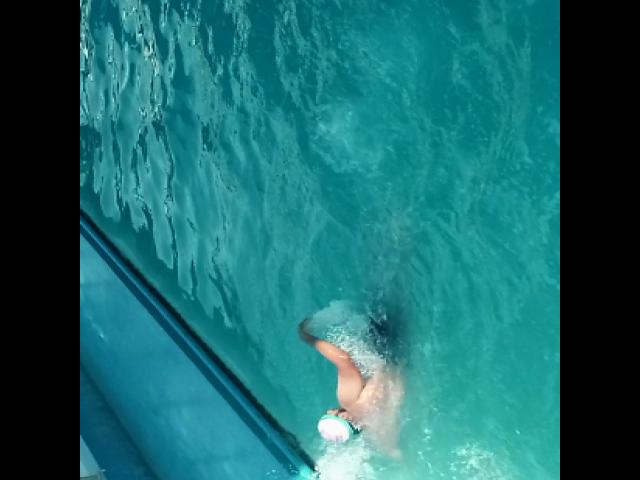swimming: (293, 296, 407, 451)
